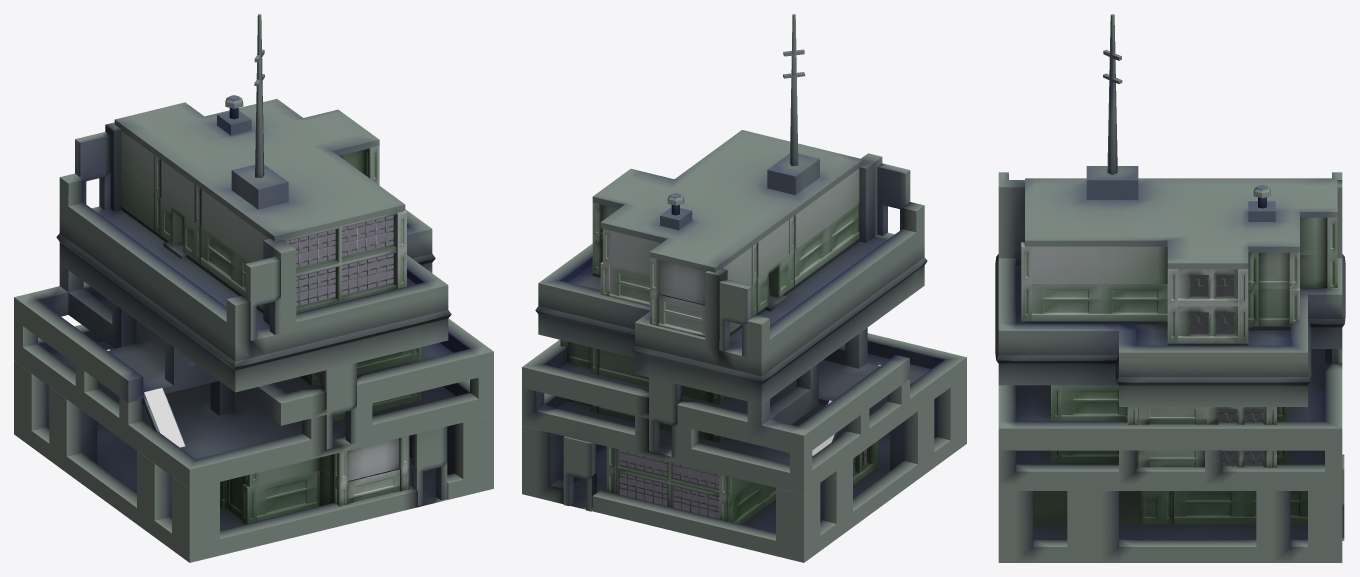
3 renders of one model, left to right at view 1: azimuth 30°, elevation 25°; view 2: azimuth 150°, elevation 25°; view 3: azimuth 270°, elevation 25°, orthographic. The views are drawn at different scales.
Visible parts, largest first — view 1: Object07, two_tank_roof13, two_tank_roof17, Object08, two_tank_roof16, 1 bed loft02, 1 bed loft01, glass 1 bed loft 02, metal02, two_tank_roof07, ramp01, 1 bed 1 bath03 (+1 smaller); view 2: Object07, two_tank_roof17, Object08, two_tank_roof13, two_tank_roof16, 1 bed loft02, 1 bed loft01, glass 1 bed loft 01, 1 bed 1 bath03, two_tank_roof07, metal02, 1 bed 1 bath02; view 3: Object07, Object08, 1 bed loft02, two_tank_roof17, two_tank_roof16, two_tank_roof13, 1 bed loft01, 1 bed 1 bath03, metal02, 1 bed 1 bath02, glass 1 bed loft 02, glass 1 bed 1 bath02 (+1 smaller).
Boxes of the visible parts, x1,y1,x2,y2 form: Object07: (56, 122, 451, 392); two_tank_roof13: (14, 320, 493, 488); two_tank_roof17: (14, 361, 493, 562); Object08: (114, 99, 405, 241); two_tank_roof16: (14, 264, 493, 425); 1 bed loft02: (121, 130, 406, 313); 1 bed loft01: (220, 435, 409, 524); glass 1 bed loft 02: (286, 215, 393, 306); metal02: (142, 14, 393, 447); two_tank_roof07: (411, 426, 447, 505); ramp01: (107, 349, 184, 447); 1 bed 1 bath03: (299, 347, 421, 385); Object07: (535, 153, 927, 404); two_tank_roof17: (522, 375, 966, 562); Object08: (592, 130, 863, 272); two_tank_roof13: (522, 333, 966, 494); two_tank_roof16: (522, 327, 909, 456); 1 bed loft02: (592, 168, 859, 337); 1 bed loft01: (606, 440, 878, 524); glass 1 bed loft 01: (619, 449, 866, 518); 1 bed 1 bath03: (560, 340, 729, 404); two_tank_roof07: (563, 436, 596, 511); metal02: (667, 14, 911, 474); 1 bed 1 bath02: (567, 398, 726, 442); Object07: (995, 172, 1345, 406); Object08: (1025, 166, 1337, 269); 1 bed loft02: (1021, 217, 1337, 343); two_tank_roof17: (998, 491, 1342, 562); two_tank_roof16: (998, 349, 1342, 450); two_tank_roof13: (998, 349, 1342, 490); 1 bed loft01: (1033, 491, 1307, 524); 1 bed 1 bath03: (1051, 385, 1287, 424); metal02: (1103, 14, 1270, 465); 1 bed 1 bath02: (1051, 450, 1287, 467); glass 1 bed loft 02: (1190, 275, 1234, 333); glass 1 bed 1 bath02: (1222, 450, 1262, 465).
Bounding box in the file's own units: 20.2 × 30.04 × 20.4.
